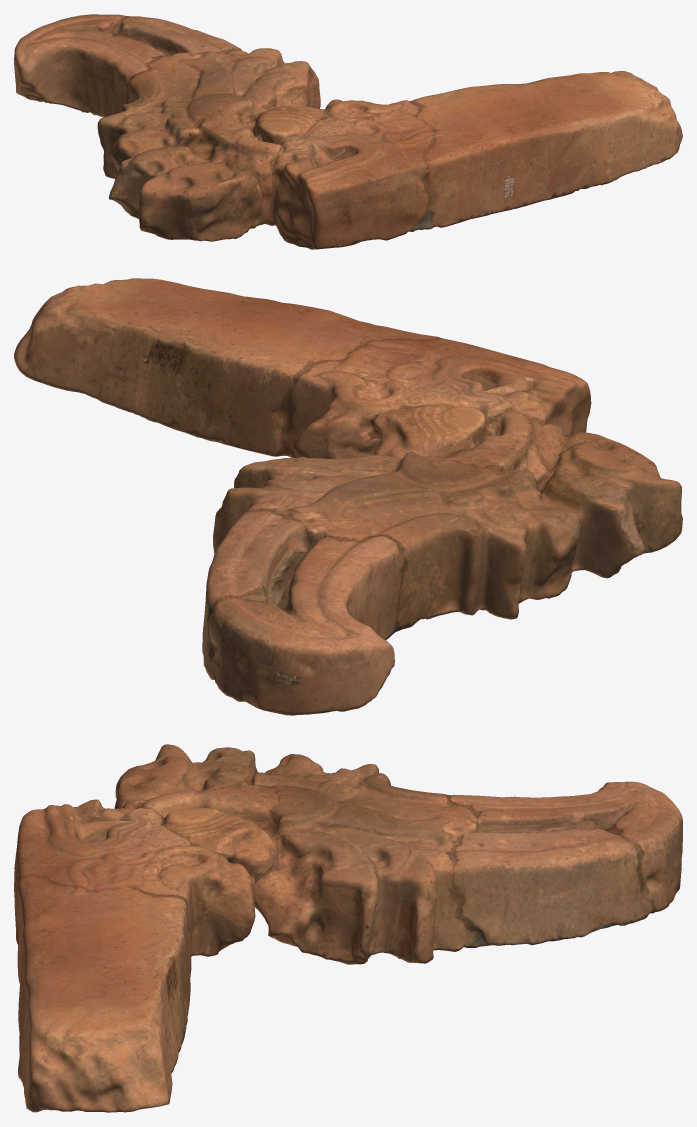
The model's file is MysonMuseum_makara_final.glb.
3 renders of one model, top to bottom at view 1: azimuth 30°, elevation 25°; view 2: azimuth 150°, elevation 25°; view 3: azimuth 270°, elevation 25°, orthographic. The views are drawn at different scales.
Size of the model in its own units: 0.649 by 0.0963 by 0.5645.
1 material, 1 textured.
